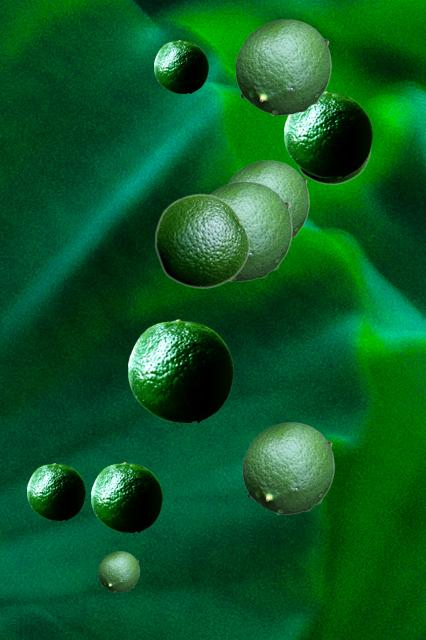calamansi: (128, 319, 232, 421), (154, 193, 249, 288), (235, 19, 330, 114), (242, 422, 333, 513), (210, 181, 291, 280), (284, 91, 371, 176), (228, 160, 308, 238), (91, 462, 161, 531), (27, 463, 84, 519), (154, 40, 207, 92), (297, 153, 370, 184), (98, 551, 138, 591)
